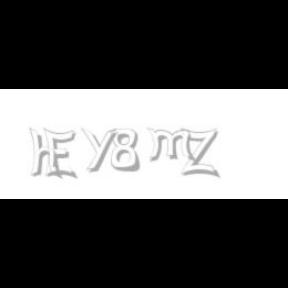8: (110, 128, 140, 172)
E: (44, 128, 76, 180)
Z: (180, 128, 217, 178)
h: (30, 128, 64, 180)
m: (146, 128, 198, 162)
y: (81, 128, 121, 172)
